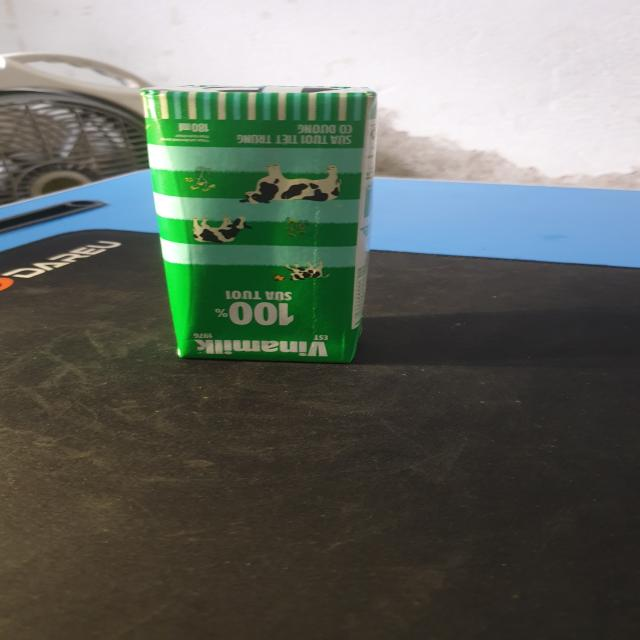Vina: (145, 85, 385, 368)
